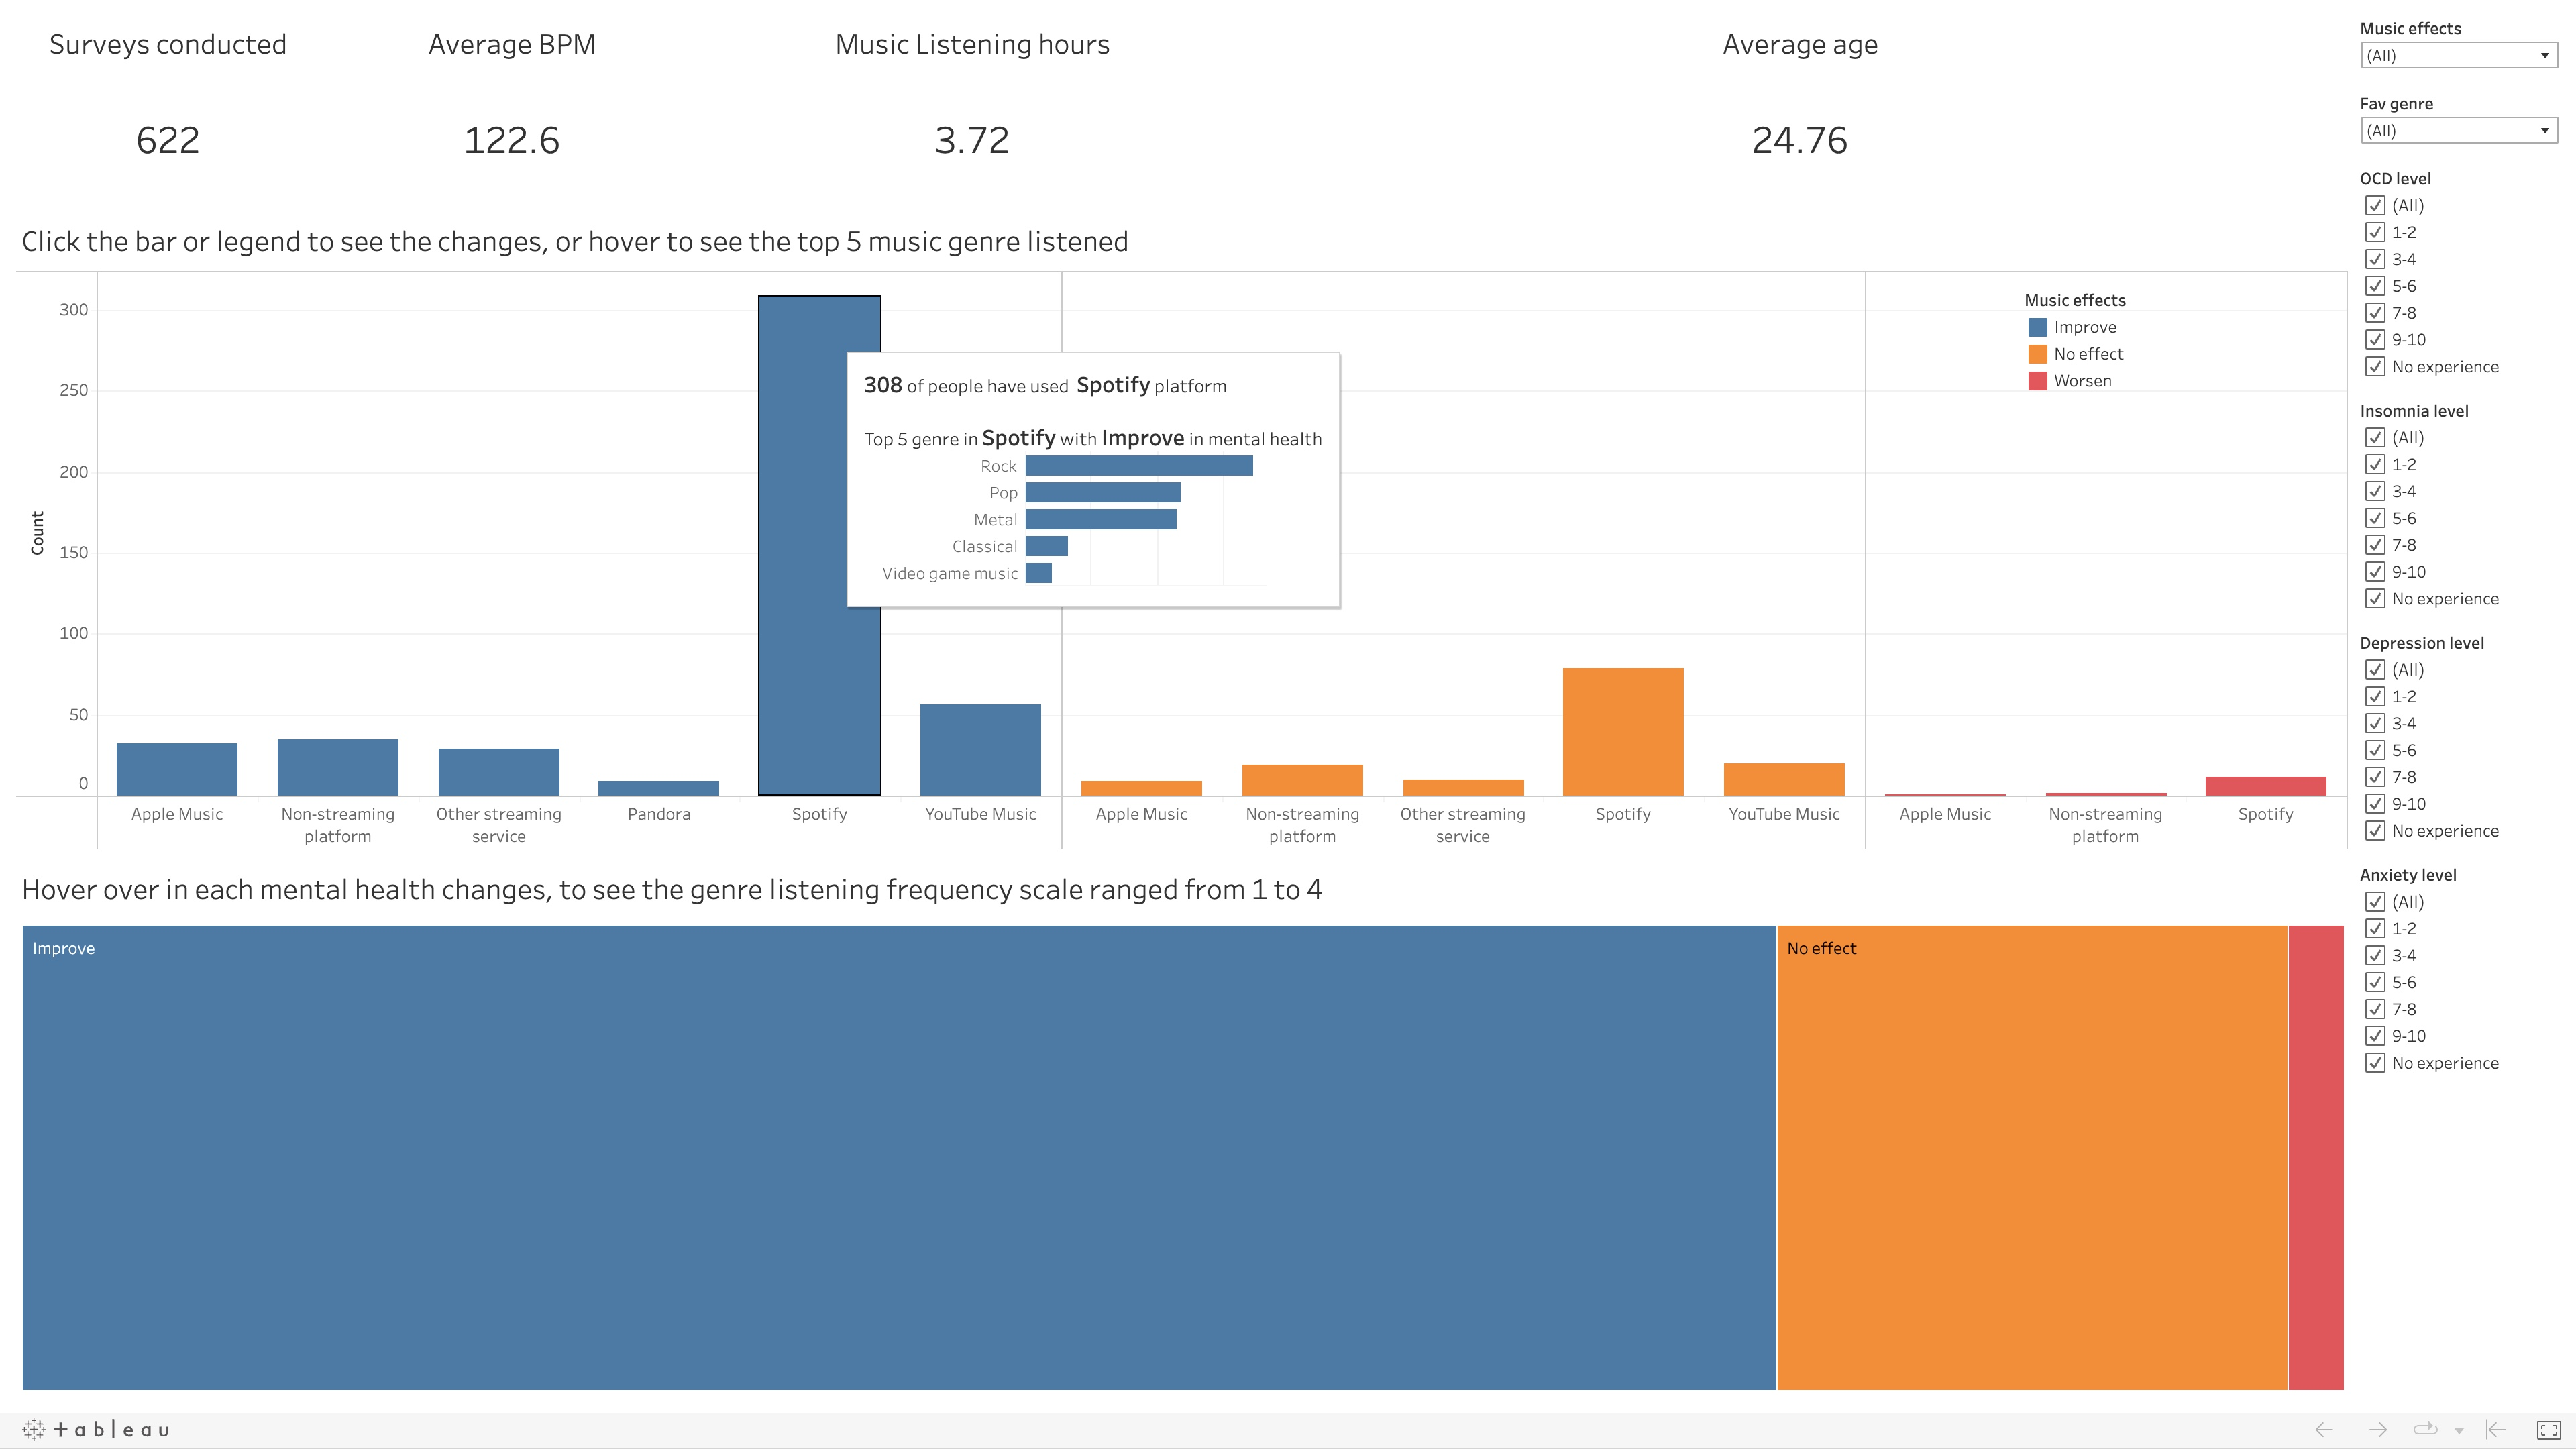

The page's visual inventory and layout, read from the dashboard file:
{"tool":"tableau","page":{"name":"Music dashboard","canvas":[1000,1000],"units":"permille","ordinal":0},"visuals":[{"type":"worksheet","title":"Surveys conducted","mark":"Automatic","box":[3.5,6.3,102.3,140.3]},{"type":"worksheet","title":"Average BPM","mark":"Automatic","box":[105.8,6.3,121,140.3]},{"type":"worksheet","title":"Music Listening hours","mark":"Automatic","box":[226.8,6.3,177.6,140.3]},{"type":"worksheet","title":"Average age","mark":"Automatic","box":[404.4,6.3,510,140.3]},{"type":"filter","title":"Listening frequency in each effect section","param":"[federated.1oci5pb0qlg0t219j3f3d1bt4whb].[none:Music effects:nk]","box":[914.4,6.3,82.1,48]},{"type":"filter","title":"Listening platform","param":"[federated.1oci5pb0qlg0t219j3f3d1bt4whb].[none:Fav genre:nk]","box":[914.4,54.3,82.1,48]},{"type":"filter","title":"Listening frequency in each effect section","param":"[federated.1oci5pb0qlg0t219j3f3d1bt4whb].[none:Calculation_859624622874152964:nk","box":[914.4,102.3,82.1,155]},{"type":"worksheet","title":"Listening platform","mark":"Automatic","rows":["Primary streaming service"],"cols":["Music effects","Primary streaming service"],"box":[3.5,146.6,910.9,459.1]},{"type":"legend","title":"Listening platform","param":"[federated.1oci5pb0qlg0t219j3f3d1bt4whb].[none:Music effects:nk]","box":[857.6,203,50.9,107]},{"type":"filter","title":"Listening frequency in each effect section","param":"[federated.1oci5pb0qlg0t219j3f3d1bt4whb].[none:Calculation_859624622873759747:nk","box":[914.4,257.3,82.1,155]},{"type":"filter","title":"Listening frequency in each effect section","param":"[federated.1oci5pb0qlg0t219j3f3d1bt4whb].[none:Calculation_859624622873341953:nk","box":[914.4,412.2,82.1,155]},{"type":"filter","title":"Listening frequency in each effect section","param":"[federated.1oci5pb0qlg0t219j3f3d1bt4whb].[none:Calculation_859624622870994944:nk","box":[914.4,567.2,82.1,155]},{"type":"worksheet","title":"Listening frequency in each effect section","mark":"Automatic","box":[3.5,605.7,910.9,388]}]}

Visuals, with their boxes on the dashboard's canvas, which has no fixed pixel size, in thousandths of its width and height (x1, y1, x2, y2). These are canvas units, not pixel positions in the 2576x1449 screenshot, which may show the page scaled, cropped or inside an application window:
"Surveys conducted" worksheet: 4:6:106:147
"Average BPM" worksheet: 106:6:227:147
"Music Listening hours" worksheet: 227:6:404:147
"Average age" worksheet: 404:6:914:147
"Listening frequency in each effect section" filter: 914:6:996:54
"Listening platform" filter: 914:54:996:102
"Listening frequency in each effect section" filter: 914:102:996:257
"Listening platform" worksheet: 4:147:914:606
"Listening platform" legend: 858:203:908:310
"Listening frequency in each effect section" filter: 914:257:996:412
"Listening frequency in each effect section" filter: 914:412:996:567
"Listening frequency in each effect section" filter: 914:567:996:722
"Listening frequency in each effect section" worksheet: 4:606:914:994
